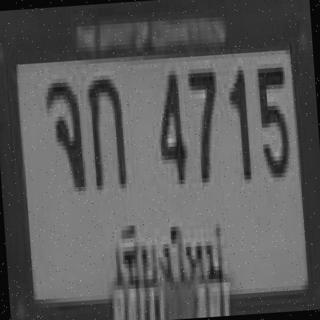A01: (85, 70, 125, 186)
A08: (43, 77, 84, 189)
N01: (226, 64, 249, 178)
N04: (154, 66, 186, 181)
N05: (256, 63, 290, 174)
N07: (185, 64, 221, 179)
P11: (109, 212, 231, 298)
